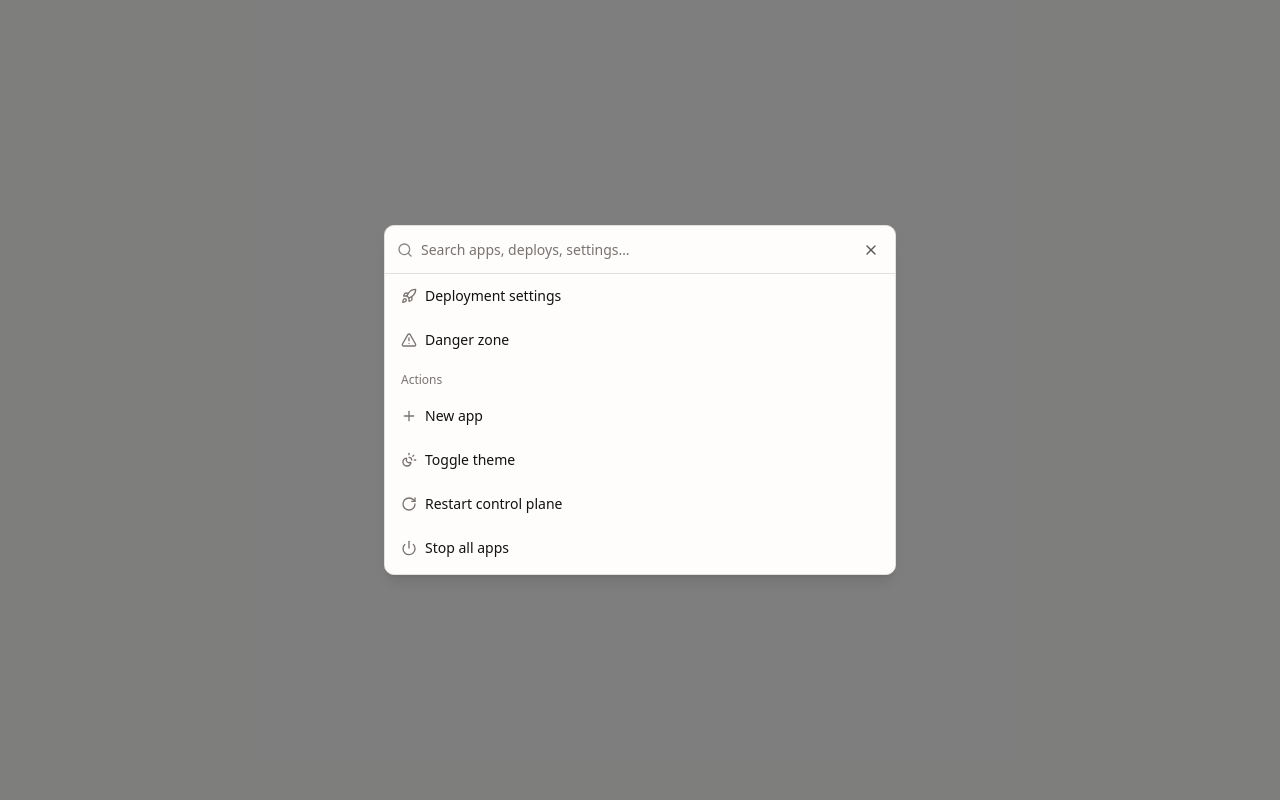
CommandMenu › asks for confirmation before a destructive action runs
(page scrolled)
Click the option "Stop all apps" at (455, 548), box x1=401 y1=538 x2=509 y2=557
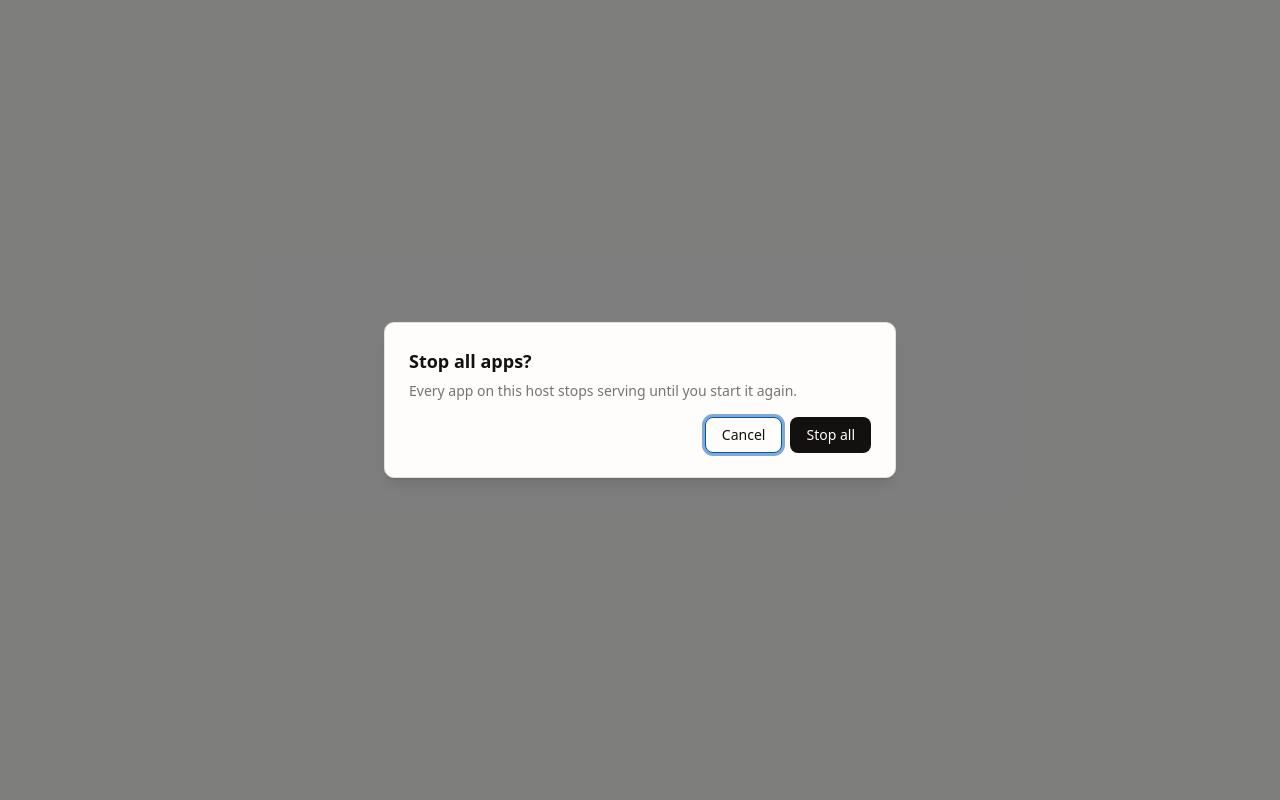
Now the heading "Stop all apps?" is shown, box x1=409 y1=347 x2=532 y2=375
